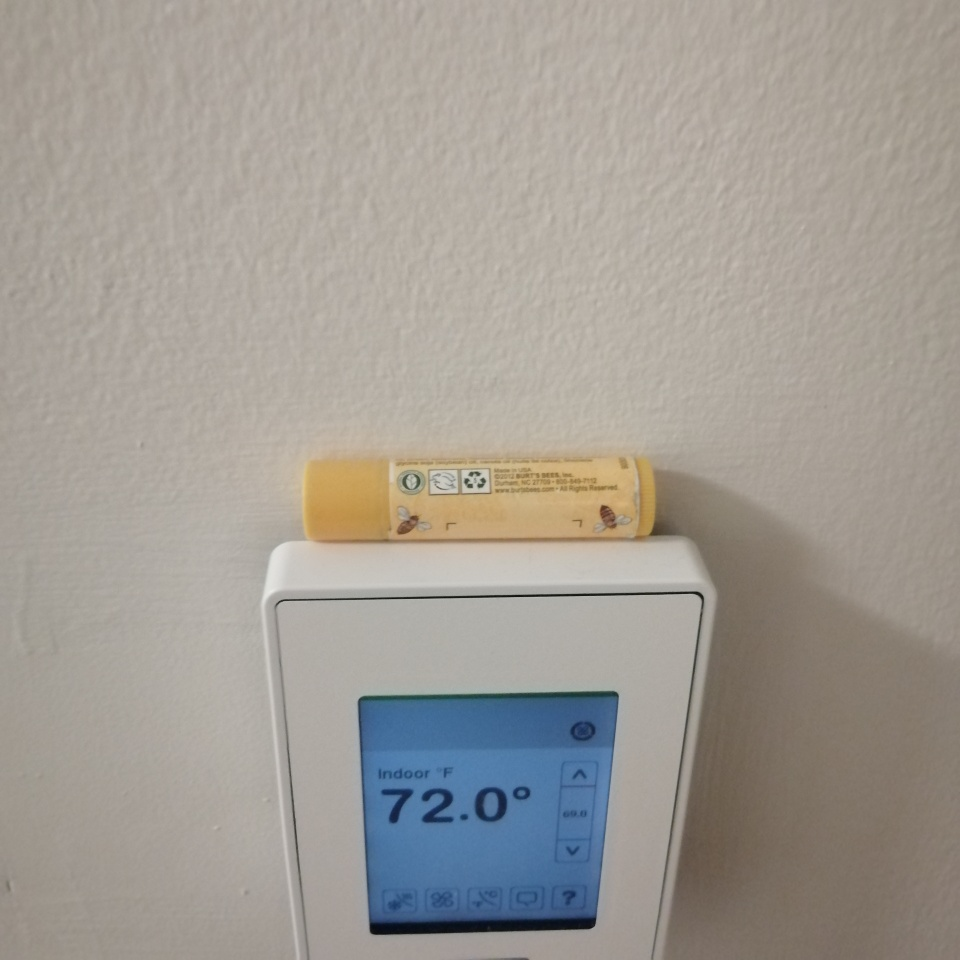chapstick: (302, 453, 663, 544)
